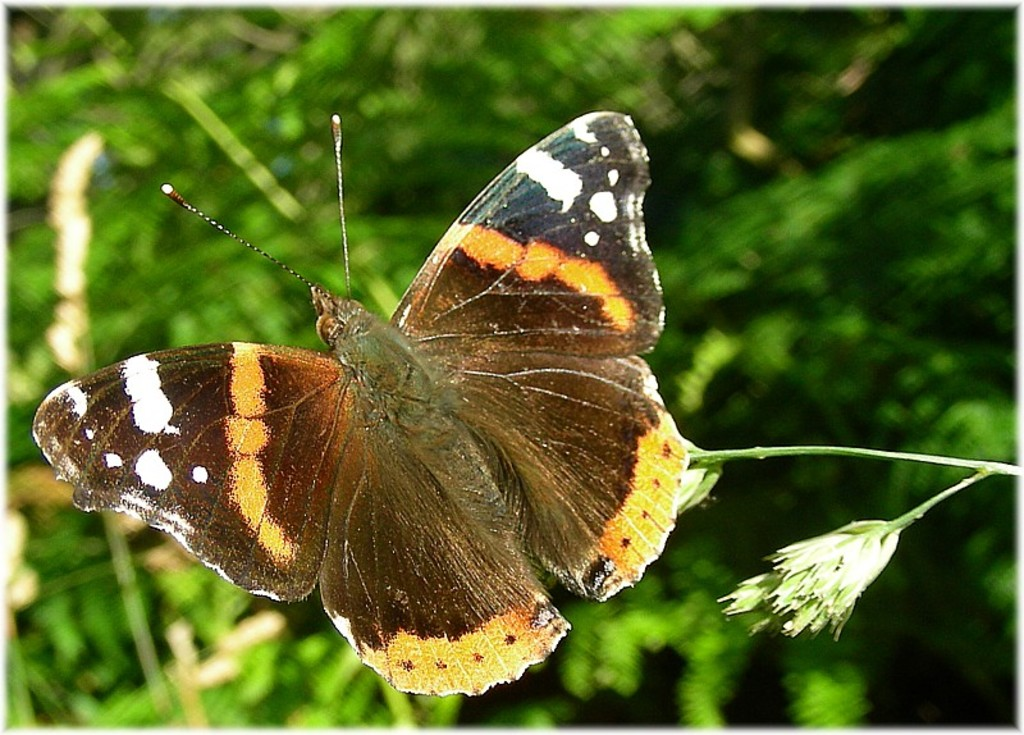Butterfly: (34, 99, 688, 708)
